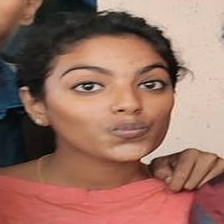no_mask: (42, 43, 172, 163)
